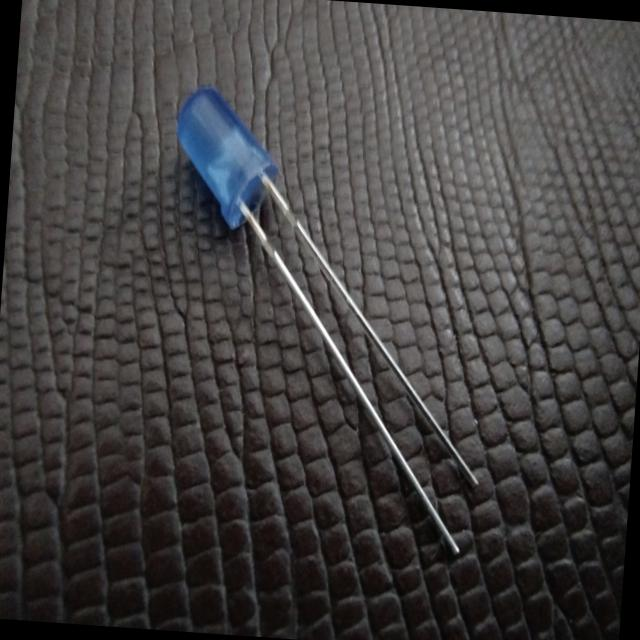blue_led: (168, 82, 284, 234)
